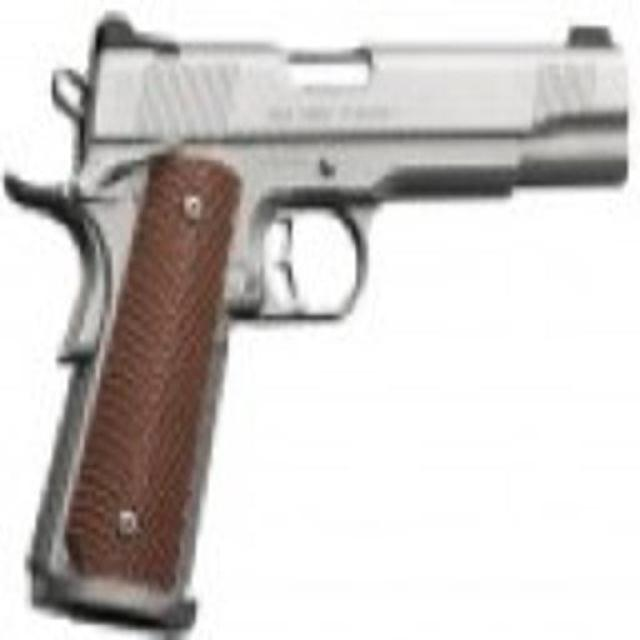pistol: (7, 10, 620, 640)
